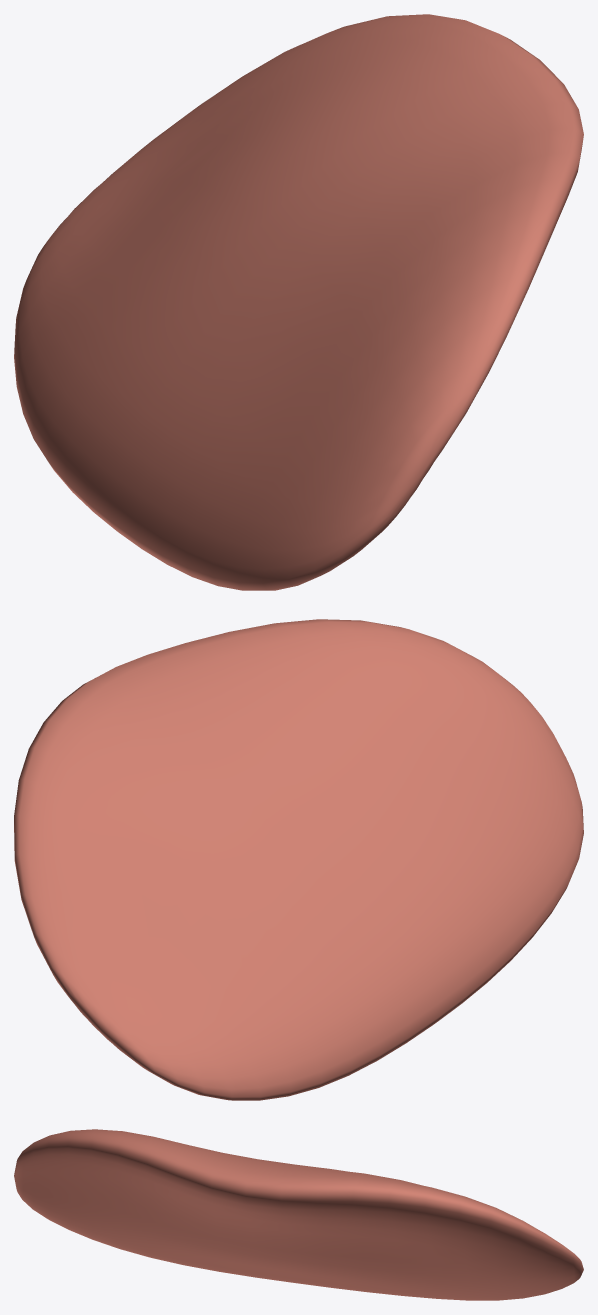
3 renders of one model, top to bottom at view 1: azimuth 30°, elevation 25°; view 2: azimuth 150°, elevation 25°; view 3: azimuth 270°, elevation 25°, orthographic. The views are drawn at different scales.
Visible parts, largest first — view 1: 右侧臀大肌转子囊; view 2: 右侧臀大肌转子囊; view 3: 右侧臀大肌转子囊.
Boxes of the visible parts, left/top/right/bottom form: 右侧臀大肌转子囊: left=14, top=14, right=583, bottom=590; 右侧臀大肌转子囊: left=14, top=619, right=583, bottom=1100; 右侧臀大肌转子囊: left=14, top=1129, right=583, bottom=1300.
Bounding box in the file's own units: 0.0257 × 0.0199 × 0.0442.
